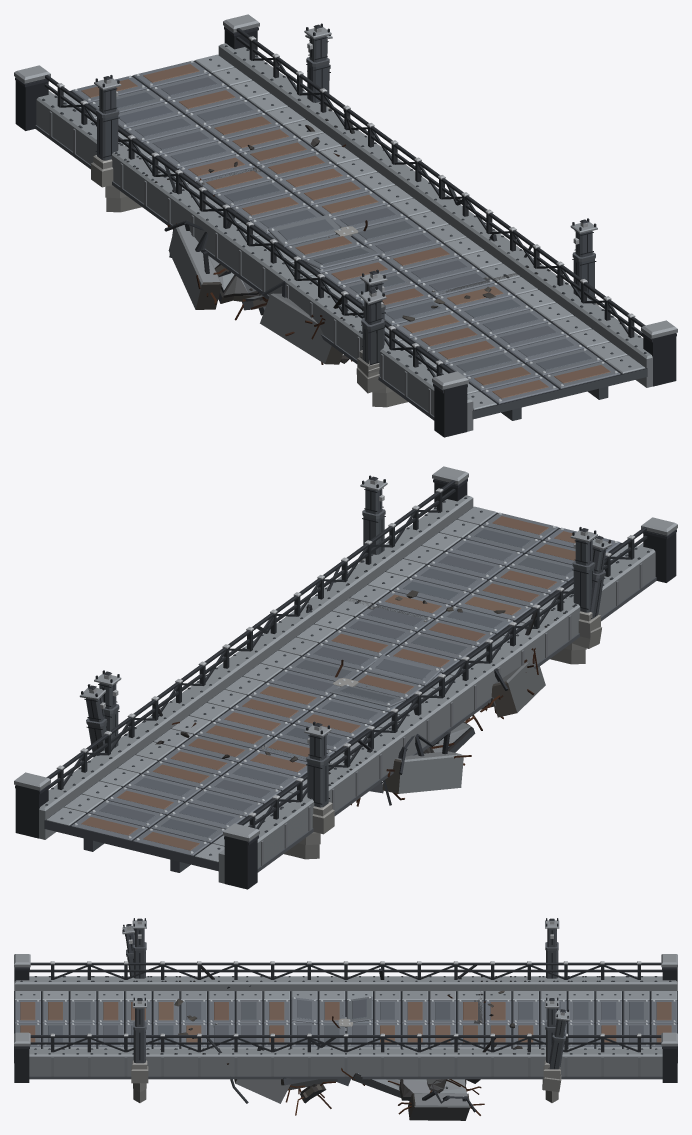
The model's file is BRG_city_long.fbx.
3 views of the same model, one above another, from view 1: azimuth 30°, elevation 25°; view 2: azimuth 150°, elevation 25°; view 3: azimuth 270°, elevation 25° (orthographic). The views are drawn at different scales.
Visible parts, largest first — view 1: BRGZ_city_long_damaged_plate, BRGZ_city_long_damaged_steel, BRGZ_city_long_destroyed_steel, BRGZ_city_long_intact_steel, BRGZ_city_long_intact_plate, BRGZ_city_long_damaged_stone, BRGZ_city_long_destroyed_stone, BRGZ_city_long_destroyed_plate; view 2: BRGZ_city_long_damaged_plate, BRGZ_city_long_damaged_steel, BRGZ_city_long_destroyed_steel, BRGZ_city_long_intact_steel, BRGZ_city_long_intact_plate, BRGZ_city_long_damaged_stone, BRGZ_city_long_destroyed_stone, BRGZ_city_long_destroyed_plate; view 3: BRGZ_city_long_damaged_steel, BRGZ_city_long_damaged_plate, BRGZ_city_long_destroyed_steel, BRGZ_city_long_intact_steel, BRGZ_city_long_destroyed_stone, BRGZ_city_long_intact_plate, BRGZ_city_long_destroyed_plate, BRGZ_city_long_damaged_stone.
Part boxes in pixels (x1,y1,x2,y2): BRGZ_city_long_damaged_plate: [54, 54, 645, 410]; BRGZ_city_long_damaged_steel: [14, 14, 677, 437]; BRGZ_city_long_destroyed_steel: [35, 29, 649, 418]; BRGZ_city_long_intact_steel: [219, 29, 649, 385]; BRGZ_city_long_intact_plate: [214, 163, 505, 300]; BRGZ_city_long_damaged_stone: [91, 106, 598, 407]; BRGZ_city_long_destroyed_stone: [170, 125, 495, 393]; BRGZ_city_long_destroyed_plate: [188, 167, 518, 300]; BRGZ_city_long_damaged_plate: [46, 506, 637, 862]; BRGZ_city_long_damaged_steel: [14, 466, 677, 889]; BRGZ_city_long_destroyed_steel: [41, 480, 656, 871]; BRGZ_city_long_intact_steel: [45, 480, 471, 838]; BRGZ_city_long_intact_plate: [203, 602, 479, 762]; BRGZ_city_long_damaged_stone: [284, 558, 600, 859]; BRGZ_city_long_destroyed_stone: [155, 590, 601, 793]; BRGZ_city_long_destroyed_plate: [260, 598, 471, 783]; BRGZ_city_long_damaged_steel: [14, 918, 677, 1082]; BRGZ_city_long_damaged_plate: [14, 991, 677, 1048]; BRGZ_city_long_destroyed_steel: [14, 924, 677, 1120]; BRGZ_city_long_intact_steel: [29, 961, 662, 1076]; BRGZ_city_long_destroyed_stone: [174, 990, 561, 1103]; BRGZ_city_long_intact_plate: [210, 994, 477, 1048]; BRGZ_city_long_destroyed_plate: [208, 991, 483, 1096]; BRGZ_city_long_damaged_stone: [131, 1060, 560, 1102].
Bounding box in the file's own units: 8.56 × 5.13 × 24.
